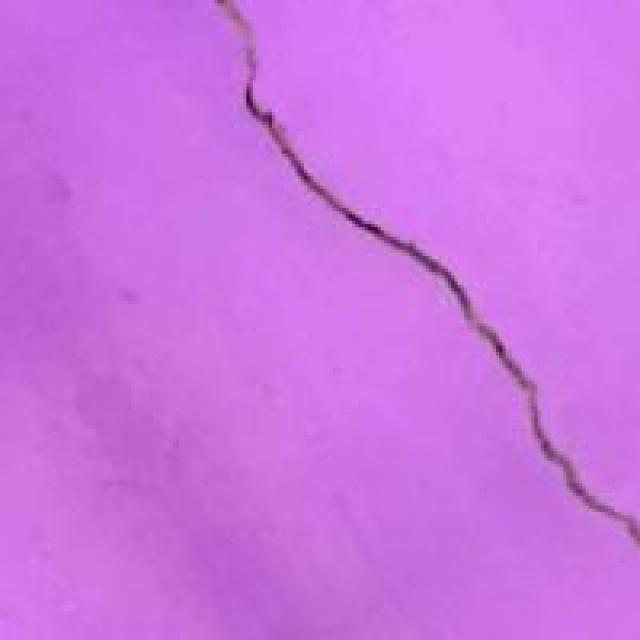crack: (211, 0, 637, 538)
